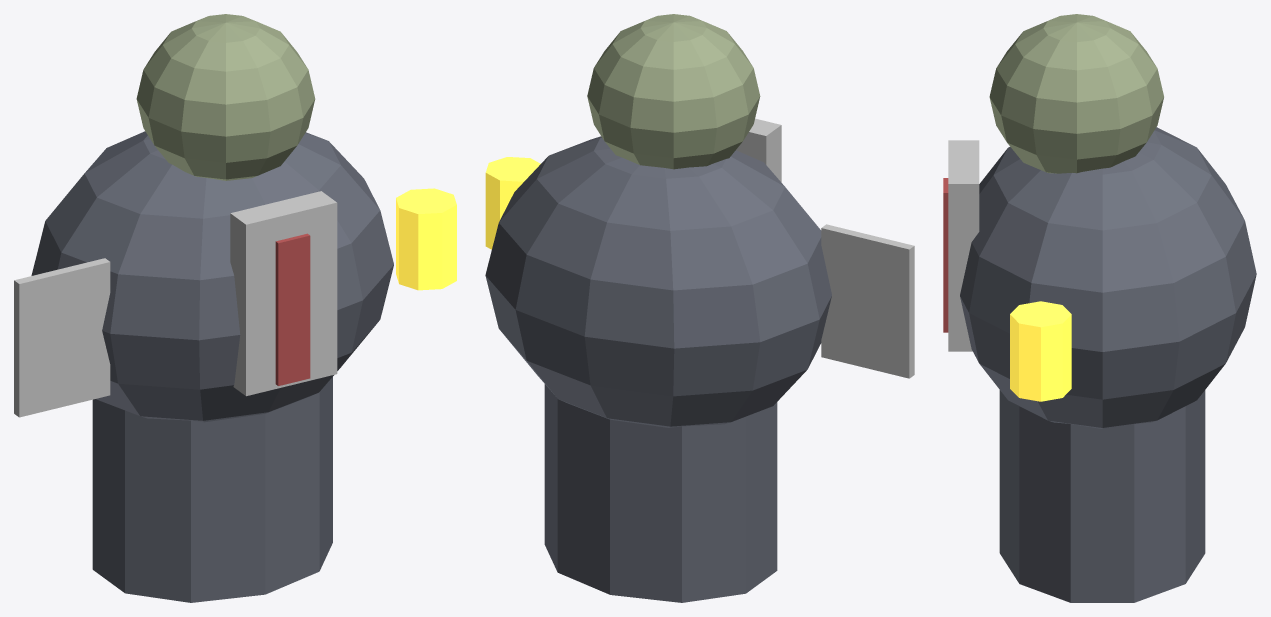
File: regional_manager.glb
3 renders of one model, left to right at view 1: azimuth 30°, elevation 25°; view 2: azimuth 150°, elevation 25°; view 3: azimuth 270°, elevation 25°, orthographic. The views are drawn at different scales.
Visible parts, largest first — view 1: BodyMesh, Mug; view 2: BodyMesh, Mug; view 3: BodyMesh, Mug.
Part boxes in pixels (box(x1,y1,x2,y2)): BodyMesh: box(14, 14, 393, 602); Mug: box(396, 188, 456, 290); BodyMesh: box(485, 14, 914, 602); Mug: box(485, 157, 540, 249); BodyMesh: box(943, 14, 1256, 602); Mug: box(1010, 301, 1071, 401).
Bounding box in the file's own units: 0.96 × 1.14 × 0.61.
